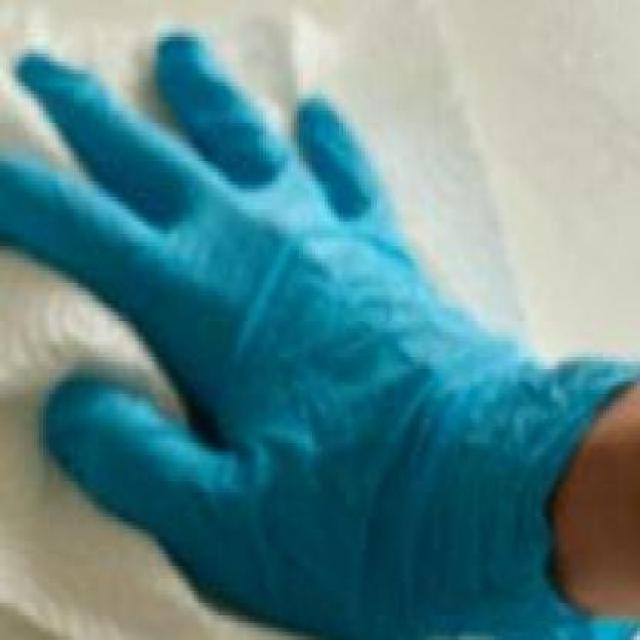gloved_hand: (3, 29, 640, 636)
